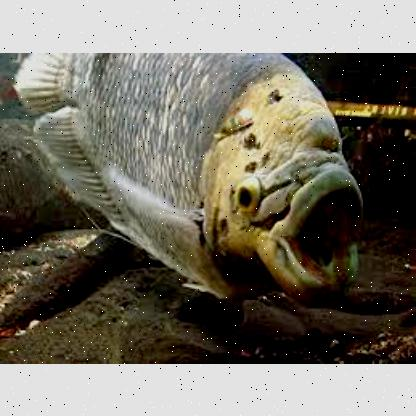gurame: (16, 52, 370, 296)
